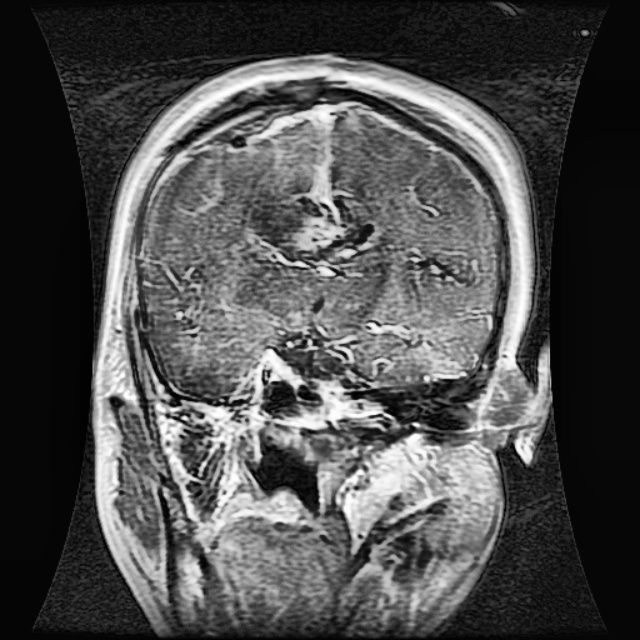Glioma: (254, 147, 379, 278)
